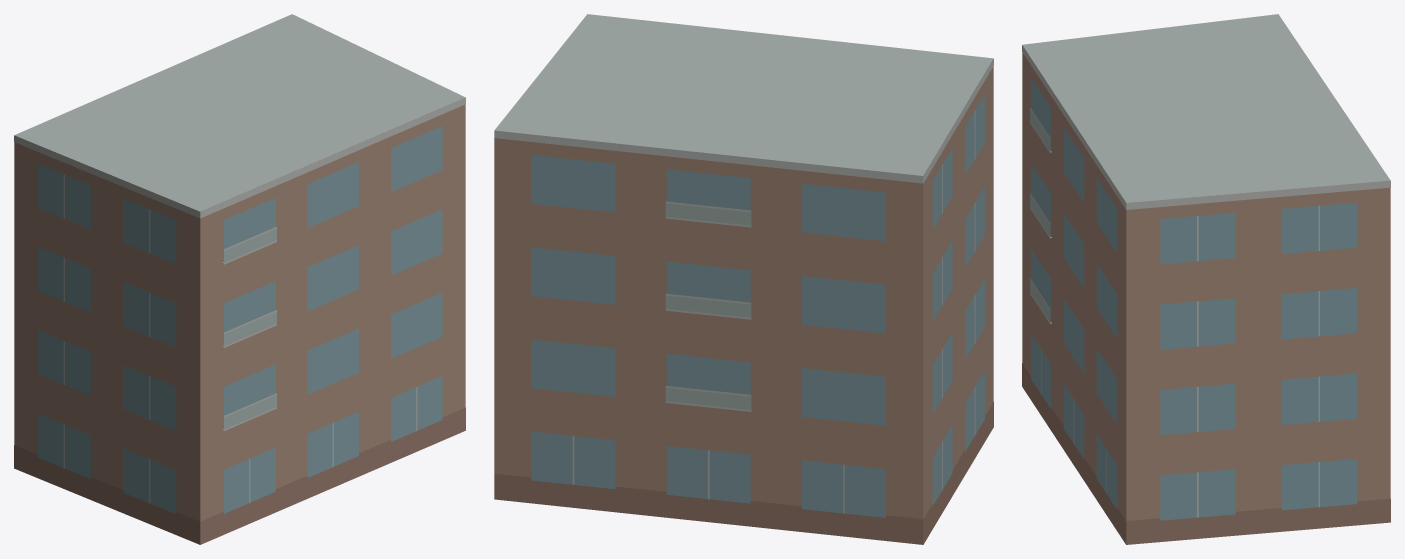
The model's file is survey-upis-32857086.glb.
The picture shows the model from 3 angles, left to right: view 1: azimuth 30°, elevation 25°; view 2: azimuth 150°, elevation 25°; view 3: azimuth 270°, elevation 25°; orthographic projection. The views are drawn at different scales.
Visible parts, largest first — view 1: survey-upis-32857086.tmp; view 2: survey-upis-32857086.tmp; view 3: survey-upis-32857086.tmp.
Part boxes in pixels (x1,y1,x2,y2): survey-upis-32857086.tmp: (14, 14, 465, 544); survey-upis-32857086.tmp: (494, 14, 993, 544); survey-upis-32857086.tmp: (1022, 14, 1390, 544).
Bounding box in the file's own units: 14.22 × 11.98 × 11.72.
